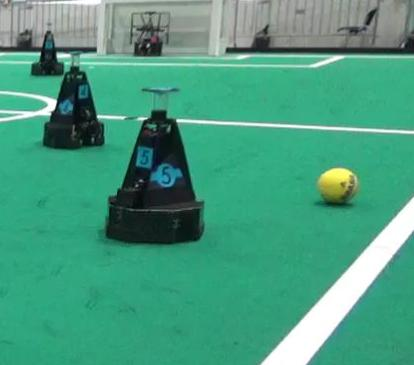robot: (105, 81, 207, 244), (39, 45, 107, 150), (27, 21, 66, 76)
